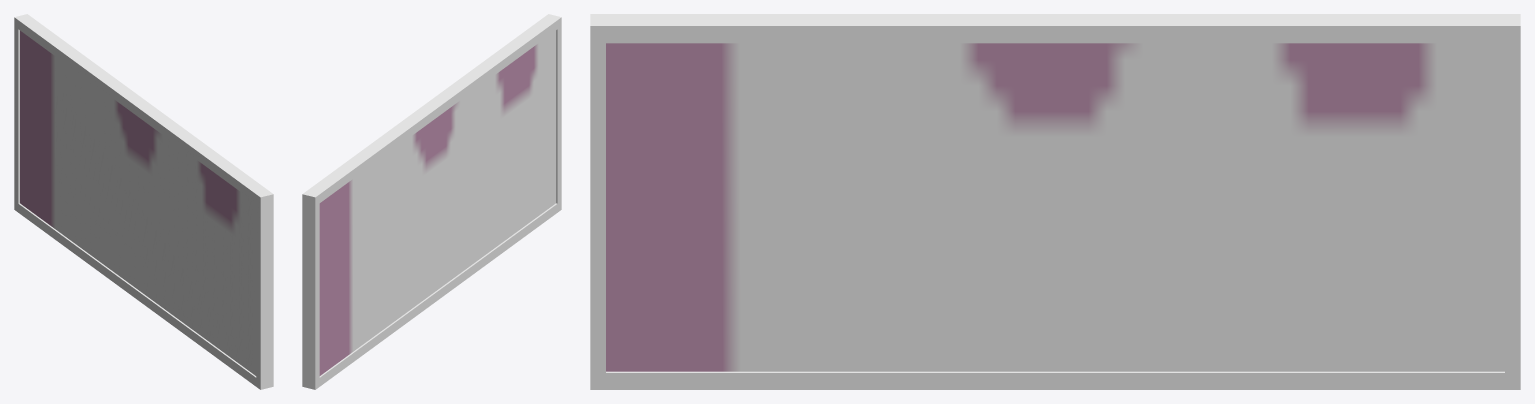
Rendered from Sign_JamHole.fbx.
3 views of the same model, side by side, from view 1: azimuth 30°, elevation 25°; view 2: azimuth 150°, elevation 25°; view 3: azimuth 270°, elevation 25° (orthographic). The views are drawn at different scales.
Parts seen in each view (by area): view 1: Cube.510; view 2: Cube.510; view 3: Cube.510.
Boxes of the visible parts, x1=… form: Cube.510: x1=14, y1=14, x2=273, y2=389; Cube.510: x1=302, y1=14, x2=561, y2=389; Cube.510: x1=590, y1=14, x2=1520, y2=389.
Bounding box in the file's own units: 8.91 × 124 × 288.
